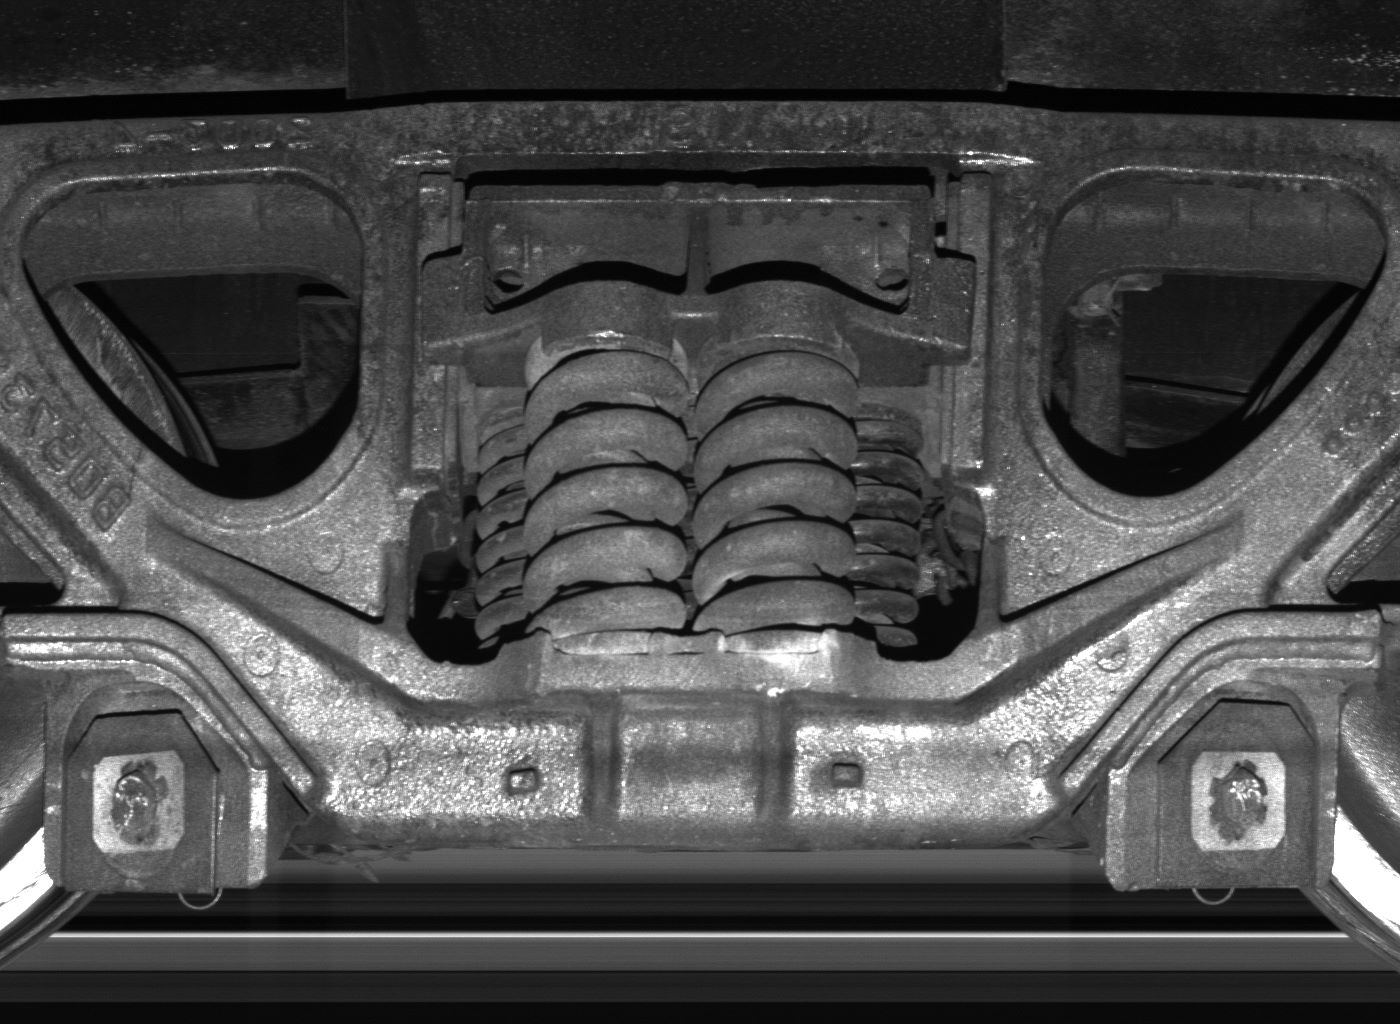normal: (1107, 678, 1339, 889), (46, 682, 268, 895)
